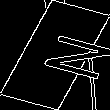N_W: (11, 27, 99, 83)
